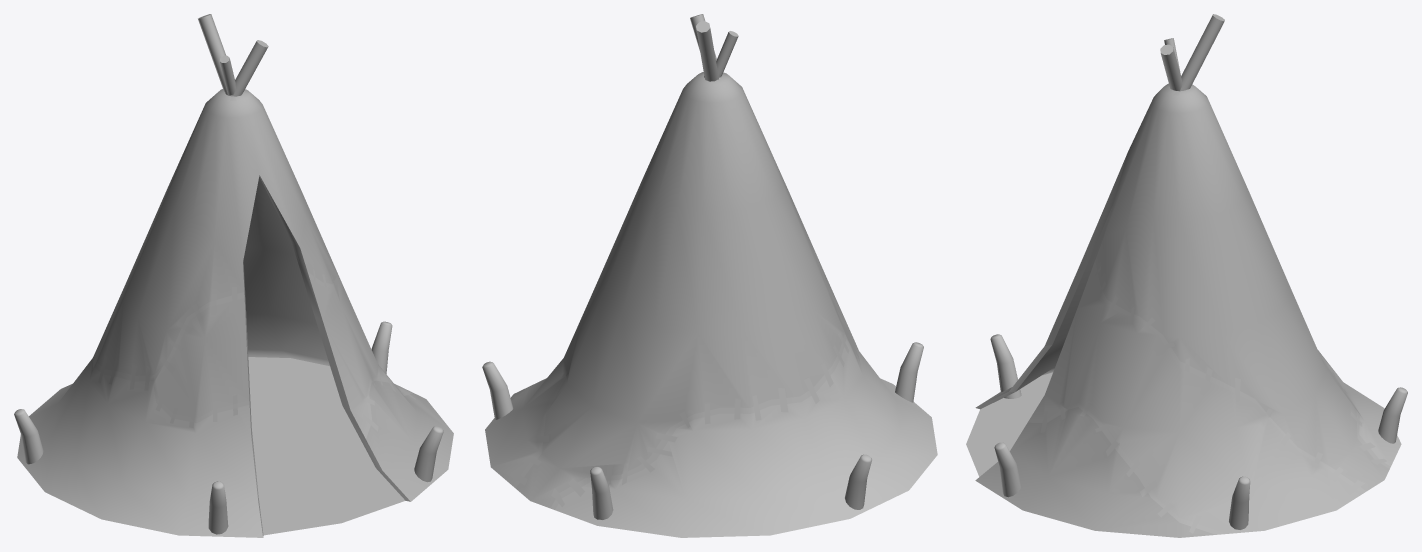
The model's file is Warriorbarrack_lvl1.fbx.
3 views of the same model, side by side, from view 1: azimuth 30°, elevation 25°; view 2: azimuth 150°, elevation 25°; view 3: azimuth 270°, elevation 25° (orthographic). The views are drawn at different scales.
Visible parts, largest first — view 1: Lvl1_WarriorBarrack; view 2: Lvl1_WarriorBarrack; view 3: Lvl1_WarriorBarrack.
Boxes of the visible parts, <box> form: Lvl1_WarriorBarrack: <box>14,14,453,537</box>; Lvl1_WarriorBarrack: <box>482,14,937,537</box>; Lvl1_WarriorBarrack: <box>966,14,1407,537</box>.
Bounding box in the file's own units: 2.55 × 2.69 × 2.54.
